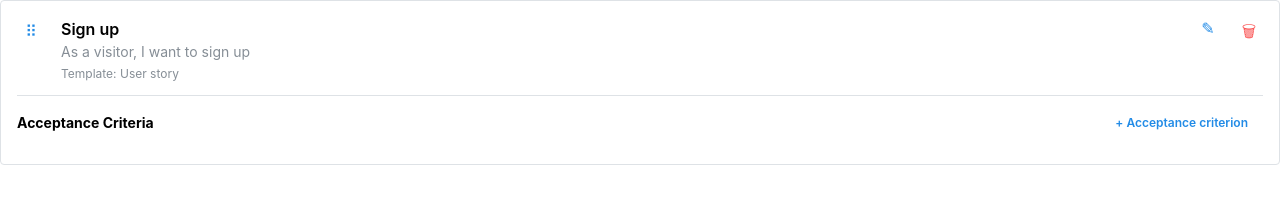
Test: UserStoryList › returns to read mode without saving when edit is cancelled
Click the button named "Edit Sign up" at (1208, 28), box [1197,17,1219,39]
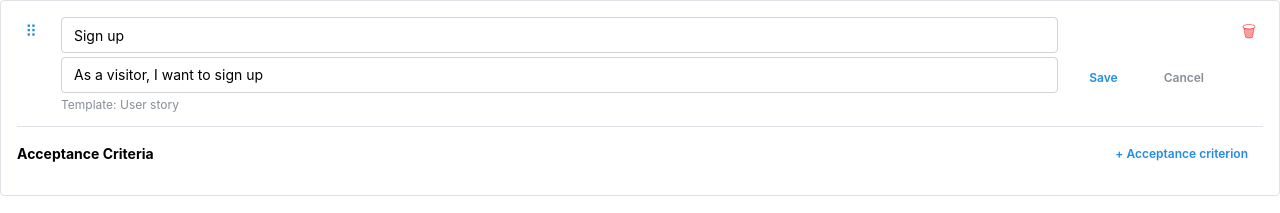
Replace the text in the field named "Name" with "Something else" at (560, 35), box [61,17,1058,53]
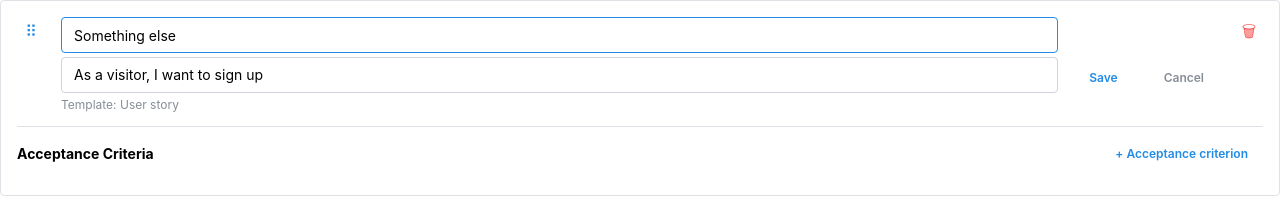
Click the button "Cancel" at (1184, 78), box [1149,63,1219,93]
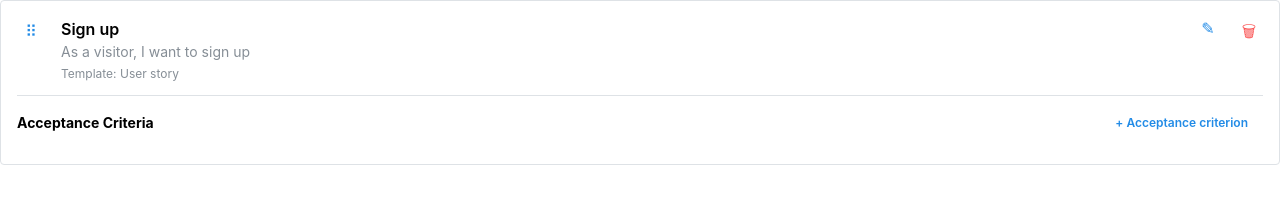
Result: the text "Sign up" is shown at [61,19,119,39]
Result: the field labelled "Name" is gone
